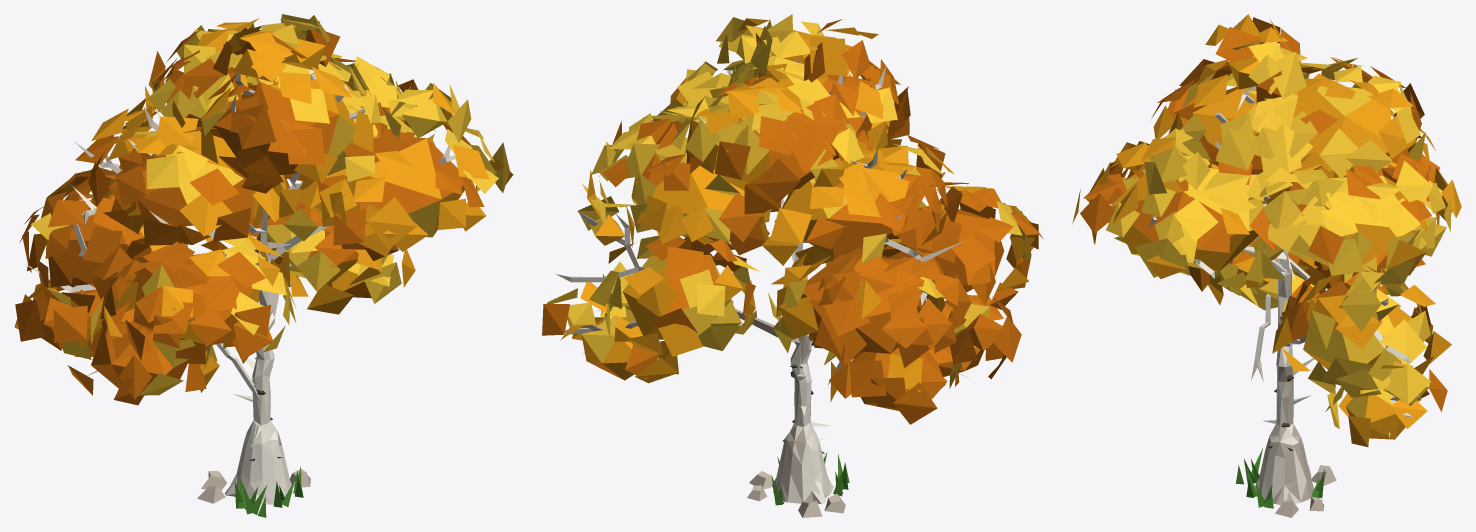
The model's file is birch_autumn.glb.
3 views of the same model, side by side, from view 1: azimuth 30°, elevation 25°; view 2: azimuth 150°, elevation 25°; view 3: azimuth 270°, elevation 25° (orthographic). The views are drawn at different scales.
Parts seen in each view (by area): view 1: birch_autumn; view 2: birch_autumn; view 3: birch_autumn.
Boxes of the visible parts, x1,y1,x2,y2 form: birch_autumn: [14, 14, 513, 517]; birch_autumn: [542, 14, 1043, 517]; birch_autumn: [1072, 14, 1461, 517].
Bounding box in the file's own units: 7.07 × 7.48 × 5.69.
